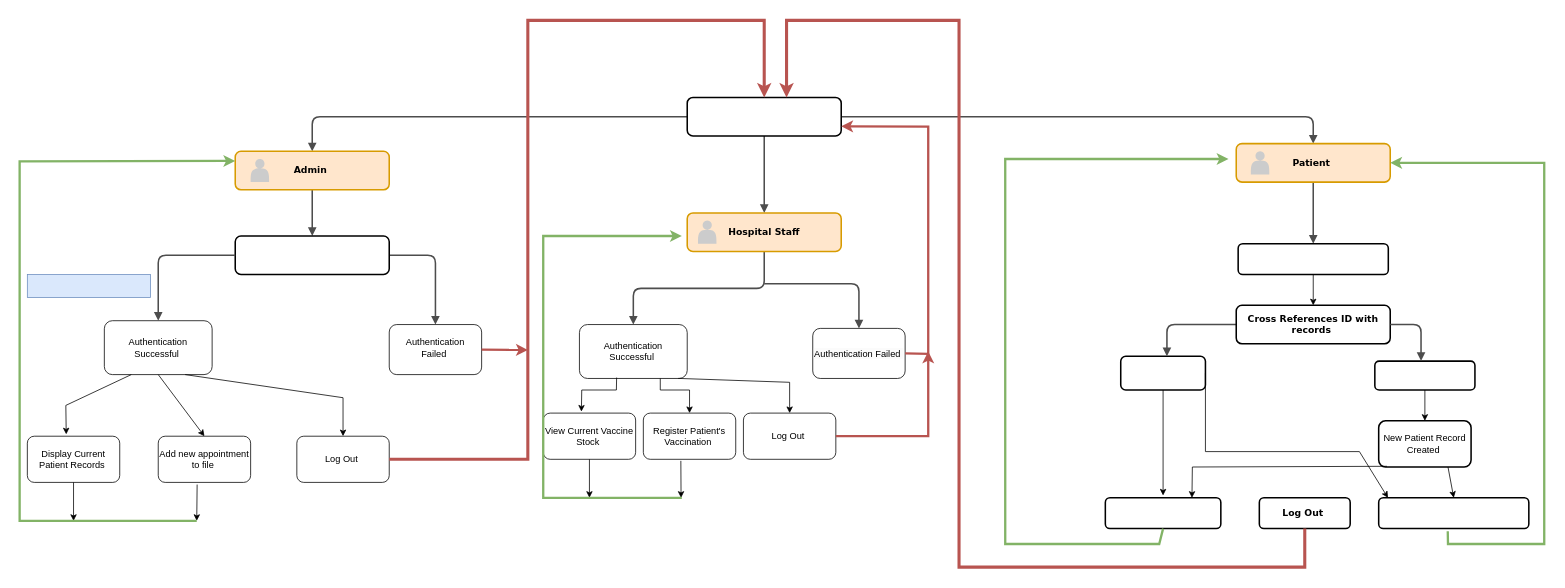
The diagram is 1565 pixels wide and 588 high, and some of its shapes have lost their labels. Each missing label, with the centre of its shape:
"Admin Login" goes at point 312,255.
"Found in System" goes at point 1163,372.
"Log In /Register" goes at point 1313,259.
"Main Menu" goes at point 764,116.
"Not Registered In System" goes at point 1424,375.
"Password cross referenced with system password" goes at point 89,286.
"View Hospital Record" goes at point 1162,513.
"View Upcoming Appointments" goes at point 1453,513.
